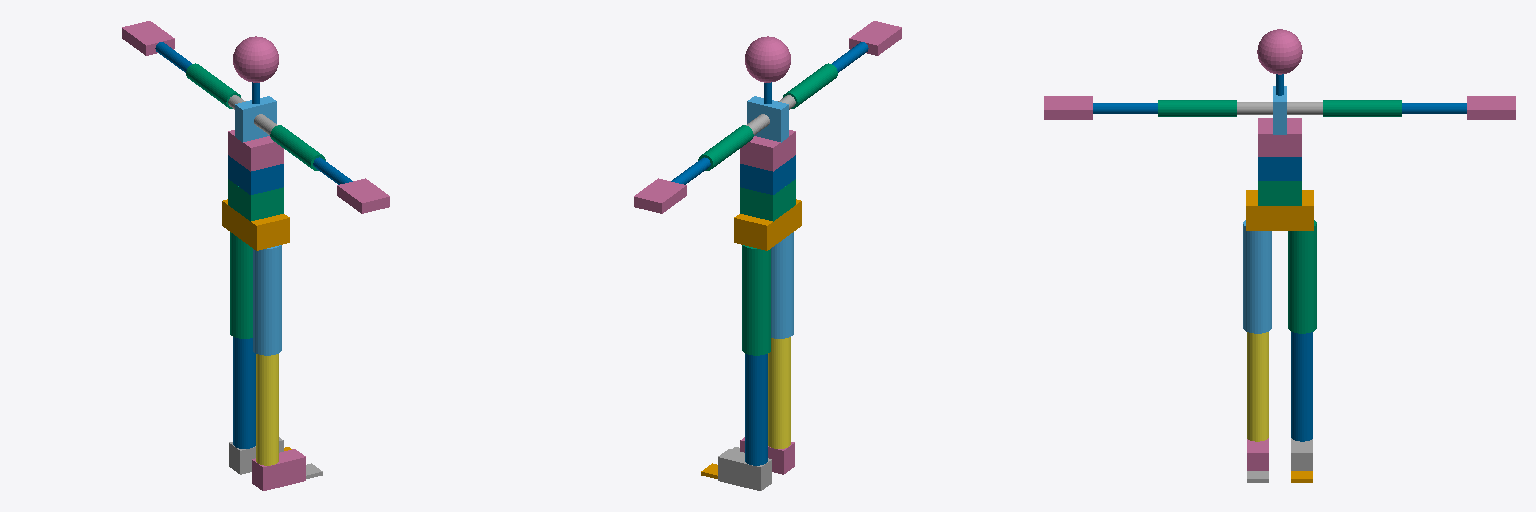
--- Facts derived from the render (not from the file) ---
The picture shows the robot from 3 angles, left to right: view 1: azimuth 30°, elevation 25°; view 2: azimuth 150°, elevation 25°; view 3: azimuth 270°, elevation 25°; orthographic projection.
Model meri48model with 49 links and 48 joints (48 revolute), rooted at Pelvis, posed every joint at zero.
Links seen in each view (by area): view 1: RightUpperLeg, RightLowerLeg, LeftLowerLeg, LeftUpperLeg, Pelvis, Head, RightFoot, T12, L5, L3, T8, RightHand (+4 smaller); view 2: LeftUpperLeg, LeftLowerLeg, RightLowerLeg, RightUpperLeg, Pelvis, Head, LeftFoot, T12, L5, L3, T8, LeftHand (+4 smaller); view 3: RightUpperLeg, LeftUpperLeg, RightLowerLeg, LeftLowerLeg, Pelvis, Head, T12, RightUpperArm, LeftUpperArm, RightHand, LeftHand, L5 (+6 smaller).
Link boxes in pixels (left/top/right/bottom): RightUpperLeg: left=253, top=245, right=281, bottom=355; RightLowerLeg: left=256, top=354, right=278, bottom=465; LeftLowerLeg: left=233, top=337, right=255, bottom=448; LeftUpperLeg: left=230, top=232, right=252, bottom=338; Pelvis: left=222, top=199, right=289, bottom=250; Head: left=233, top=36, right=278, bottom=82; RightFoot: left=252, top=449, right=305, bottom=490; T12: left=228, top=130, right=283, bottom=171; L5: left=228, top=179, right=283, bottom=221; L3: left=228, top=155, right=283, bottom=194; T8: left=235, top=96, right=276, bottom=142; RightHand: left=337, top=178, right=389, bottom=213; LeftUpperLeg: left=742, top=245, right=770, bottom=355; LeftLowerLeg: left=745, top=354, right=767, bottom=465; RightLowerLeg: left=768, top=337, right=790, bottom=448; RightUpperLeg: left=771, top=232, right=793, bottom=338; Pelvis: left=734, top=199, right=801, bottom=250; Head: left=745, top=36, right=790, bottom=82; LeftFoot: left=718, top=449, right=771, bottom=490; T12: left=740, top=130, right=795, bottom=171; L5: left=740, top=179, right=795, bottom=221; L3: left=740, top=155, right=795, bottom=194; T8: left=747, top=96, right=788, bottom=142; LeftHand: left=634, top=178, right=686, bottom=213; RightUpperLeg: left=1243, top=220, right=1271, bottom=333; LeftUpperLeg: left=1288, top=220, right=1316, bottom=333; RightLowerLeg: left=1247, top=332, right=1268, bottom=441; LeftLowerLeg: left=1291, top=332, right=1312, bottom=441; Pelvis: left=1246, top=190, right=1313, bottom=230; Head: left=1257, top=29, right=1302, bottom=74; T12: left=1258, top=118, right=1301, bottom=156; RightUpperArm: left=1158, top=100, right=1236, bottom=116; LeftUpperArm: left=1323, top=100, right=1401, bottom=116; RightHand: left=1044, top=96, right=1092, bottom=119; LeftHand: left=1467, top=96, right=1515, bottom=119; L5: left=1258, top=181, right=1301, bottom=205.
Bounding box of the posed robot: 0.2804 × 1.67 × 1.68 m (x, y, z).
Geometry: primitives only (box / cylinder / sphere), no mesh files.

URDF robot description (meri48model):
<robot name="meri48model">
<!--To open this model with Gazebo replace the null masses, inertias and dimensions of the 'fake links f1 and f2'-->
    <!--LINKS-->
	<!--Link base (1)-->
	<link name="Pelvis">
        <inertial>
            <mass value="4.9968"/>
			<!--COM origin wrt pHipOrigin-->
            <origin xyz="0           0    0.048589" rpy="0 0 0" />
            <inertia ixx="0.027779" iyy="0.01136" izz="0.031394" ixy="0" ixz="0" iyz="0"/>
        </inertial>

        <visual>
			<!--box origin wrt pHipOrigin-->
            <origin xyz="0           0    0.048589" rpy="0 0 0" />
            <geometry>
                <box size="0.13409     0.23961    0.096443"/>
            </geometry>
        </visual>

        <collision>
			<!--box origin wrt pHipOrigin-->
            <origin xyz="0           0    0.048589" rpy="0 0 0" />
            <geometry>
                <box size="0.13409     0.23961    0.096443"/>
            </geometry>
        </collision>

    </link>
    <!--Chain from (2) to (7)-->
	<link name="L5_f1">
        <inertial>
            <mass value="0.0001"/>
            <origin xyz="0 0 0" rpy="0 0 0" />
            <inertia ixx="0.1" iyy="0.1" izz="0.1" ixy="0" ixz="0" iyz="0"/>
        </inertial>
    </link>
	<link name="L5">
        <inertial>
            <mass value="6.3709"/>
			<!--COM origin wrt jL5S1-->
            <origin xyz="0           0    0.050322" rpy="0 0 0" />
            <inertia ixx="0.045355" iyy="0.034016" izz="0.067673" ixy="0" ixz="0" iyz="0"/>
        </inertial>

        <visual>
			<!--box origin origin wrt jL5S1-->
            <origin xyz="0           0    0.050322" rpy="0 0 0" />
            <geometry>
                <box size="0.13409     0.15843     0.10065"/>
            </geometry>
        </visual>

        <collision>
			<!--box origin origin wrt jL5S1-->
            <origin xyz="0           0    0.050322" rpy="0 0 0" />
            <geometry>
                <box size="0.13409     0.15843     0.10065"/>
            </geometry>
        </collision>
    </link>
	<link name="L3_f1">
        <inertial>
            <mass value="0.0001"/>
            <origin xyz="0 0 0" rpy="0 0 0" />
            <inertia ixx="0.1" iyy="0.1" izz="0.1" ixy="0" ixz="0" iyz="0"/>
        </inertial>
    </link>
	<link name="L3">
        <inertial>
            <mass value="6.3709"/>
			<!--COM origin wrt jL4L3-->
            <origin xyz="0           0    0.045465" rpy="0 0 0" />
            <inertia ixx="0.044367" iyy="0.033028" izz="0.067673" ixy="0" ixz="0" iyz="0"/>
        </inertial>

        <visual>
			<!--box origin origin wrt jL4L3-->
            <origin xyz="0           0    0.045465" rpy="0 0 0" />
            <geometry>
                <box size="0.13409     0.15843     0.09093"/>
            </geometry>
        </visual>

        <collision>
			<!--box origin origin wrt jL4L3-->
            <origin xyz="0           0    0.045465" rpy="0 0 0" />
            <geometry>
                <box size="0.13409     0.15843     0.09093"/>
            </geometry>
        </collision>
    </link>
	<link name="T12_f1">
        <inertial>
            <mass value="0.0001"/>
            <origin xyz="0 0 0" rpy="0 0 0" />
            <inertia ixx="0.1" iyy="0.1" izz="0.1" ixy="0" ixz="0" iyz="0"/>
        </inertial>
    </link>
	<link name="T12">
        <inertial>
            <mass value="6.3709"/>
			<!--COM origin wrt jL1T12-->
            <origin xyz="0           0    0.045465" rpy="0 0 0" />
            <inertia ixx="0.044367" iyy="0.033028" izz="0.067673" ixy="0" ixz="0" iyz="0"/>
        </inertial>

        <visual>
			<!--box origin origin wrt jL1T12-->
            <origin xyz="0           0    0.045465" rpy="0 0 0" />
            <geometry>
                <box size="0.13409     0.15843     0.09093"/>
            </geometry>
        </visual>

        <collision>
			<!--box origin origin wrt jL1T12-->
            <origin xyz="0           0    0.045465" rpy="0 0 0" />
            <geometry>
                <box size="0.13409     0.15843     0.09093"/>
            </geometry>
        </collision>
    </link>
	<link name="T8_f1">
        <inertial>
            <mass value="0.0001"/>
            <origin xyz="0 0 0" rpy="0 0 0" />
            <inertia ixx="0.1" iyy="0.1" izz="0.1" ixy="0" ixz="0" iyz="0"/>
        </inertial>
    </link>
	<link name="T8_f2">
        <inertial>
            <mass value="0.0001"/>
            <origin xyz="0 0 0" rpy="0 0 0" />
            <inertia ixx="0.1" iyy="0.1" izz="0.1" ixy="0" ixz="0" iyz="0"/>
        </inertial>
    </link>
	<link name="T8">
        <inertial>
            <mass value="2.4984"/>
			<!--COM origin wrt jT9T8-->
            <origin xyz="0           0    0.062885" rpy="0 0 0" />
            <inertia ixx="0.0038675" iyy="0.0072761" izz="0.0045569" ixy="0" ixz="0" iyz="0"/>
        </inertial>

        <visual>
			<!--box origin wrt jT9T8-->
            <origin xyz="0           0    0.062885" rpy="0 0 0" />
            <geometry>
                <box size="0.13831    0.052514     0.12577"/>
            </geometry>
        </visual>

        <collision>
			<!--box origin wrt jT9T8-->
            <origin xyz="0           0    0.062885" rpy="0 0 0" />
            <geometry>
                <box size="0.13831    0.052514     0.12577"/>
            </geometry>
        </collision>

    </link>
	<link name="Neck_f1">
        <inertial>
            <mass value="0.0001"/>
            <origin xyz="0 0 0" rpy="0 0 0" />
            <inertia ixx="0.1" iyy="0.1" izz="0.1" ixy="0" ixz="0" iyz="0"/>
        </inertial>
    </link>
	<link name="Neck_f2">
        <inertial>
            <mass value="0.0001"/>
            <origin xyz="0 0 0" rpy="0 0 0" />
            <inertia ixx="0.1" iyy="0.1" izz="0.1" ixy="0" ixz="0" iyz="0"/>
        </inertial>
    </link>
	<link name="Neck">
        <inertial>
            <mass value="0.74952"/>
			<!--COM origin wrt jT1C7-->
            <origin xyz="0           0    0.042348" rpy="0 0 0" />
            <inertia ixx="0.00058952" iyy="0.00058952" izz="0.00028294" ixy="0" ixz="0" iyz="0"/>
        </inertial>

        <visual>
			<!--box origin wrt jT1C7-->
            <origin xyz="0           0    0.042348" rpy="0 0 0" />
            <geometry>
		<cylinder length="0.084696" radius="0.013739"/>
            </geometry>
        </visual>

        <collision>
			<!--box origin wrt jT1C7-->
            <origin xyz="0           0    0.042348" rpy="0 0 0" />
            <geometry>
                <cylinder length="0.084696" radius="0.013739"/>
            </geometry>
        </collision>
    </link>
	<link name="Head_f1">
        <inertial>
            <mass value="0.0001"/>
            <origin xyz="0 0 0" rpy="0 0 0" />
            <inertia ixx="0.1" iyy="0.1" izz="0.1" ixy="0" ixz="0" iyz="0"/>
        </inertial>
    </link>
	<link name="Head">
        <inertial>
            <mass value="2.2486"/>
			<!--COM origin wrt jC1Head-->
            <origin xyz="0           0    0.080693" rpy="0 0 0" />
            <inertia ixx="0.0058564" iyy="0.0058564" izz="0.0058564" ixy="0" ixz="0" iyz="0"/>
        </inertial>

        <visual>
			<!--boc origin wrt jC1Head-->
            <origin xyz="0           0    0.080693" rpy="0 0 0" />
            <geometry>
                <sphere radius="0.080693"/>
            </geometry>
        </visual>

        <collision>
			<!--box origin wrt jC1Head-->
            <origin xyz="0           0    0.080693" rpy="0 0 0" />
            <geometry>
                <sphere radius="0.080693"/>
            </geometry>
        </collision>

    </link>
	<!--Chain from (8) to (11)-->
	<link name="RightShoulder">
        <inertial>
            <mass value="1.9363"/>
			<!--COM origin wrt jRightC7Shoulder-->
            <origin xyz="0   -0.063159           0" rpy="0 0 0" />
            <inertia ixx="0.0028279" iyy="0.00050654" izz="0.0028279" ixy="0" ixz="0" iyz="0"/>
        </inertial>

        <visual>
			<!--box origin wrt jRightC7Shoulder. RPY rotated of pi/2.-->
            <origin xyz="0   -0.063159           0" rpy="1.5708 0 0" />
            <geometry>
                <cylinder length="0.12632" radius="0.022874"/>
            </geometry>
        </visual>

        <collision>
			<!--box origin wrt jRightC7Shoulder. RPY rotated of pi/2.-->
            <origin xyz="0   -0.063159           0" rpy="1.5708 0 0" />
            <geometry>
                <cylinder length="0.12632" radius="0.022874"/>
            </geometry>
        </collision>

    </link>
	<link name="RightUpperArm_f1">
        <inertial>
            <mass value="0.0001"/>
            <origin xyz="0 0 0" rpy="0 0 0" />
            <inertia ixx="0.1" iyy="0.1" izz="0.1" ixy="0" ixz="0" iyz="0"/>
        </inertial>
    </link>
	<link name="RightUpperArm_f2">
        <inertial>
            <mass value="0.0001"/>
            <origin xyz="0 0 0" rpy="0 0 0" />
            <inertia ixx="0.1" iyy="0.1" izz="0.1" ixy="0" ixz="0" iyz="0"/>
        </inertial>
    </link>
    <link name="RightUpperArm">
        <inertial>
            <mass value="1.8738"/>
			<!--COM origin wrt jRightShoulder-->
            <origin xyz="0    -0.14042           0" rpy="0 0 0" />
            <inertia ixx="0.012751" iyy="0.00087175" izz="0.012751" ixy="0" ixz="0" iyz="0"/>
        </inertial>

        <visual>
			<!--box origin wrt jRightShoulder. RPY rotated of pi/2.-->
            <origin xyz="0    -0.14042           0" rpy="1.5708 0 0" />
            <geometry>
                <cylinder length="0.28083" radius="0.030503"/>
            </geometry>
        </visual>

        <collision>
			<!--box origin wrt jRightShoulder. RPY rotated of pi/2.-->
            <origin xyz="0    -0.14042           0" rpy="1.5708 0 0" />
            <geometry>
                <cylinder length="0.28083" radius="0.030503"/>
            </geometry>
        </collision>

    </link>
	<link name="RightForeArm_f1">
        <inertial>
            <mass value="0.0001"/>
            <origin xyz="0 0 0" rpy="0 0 0" />
            <inertia ixx="0.1" iyy="0.1" izz="0.1" ixy="0" ixz="0" iyz="0"/>
        </inertial>
    </link>
	<link name="RightForeArm">
        <inertial>
            <mass value="1.2492"/>
			<!--COM origin wrt jRightElbow-->
            <origin xyz="0    -0.11509           0" rpy="0 0 0" />
            <inertia ixx="0.0056447" iyy="0.0002583" izz="0.0056447" ixy="0" ixz="0" iyz="0"/>
        </inertial>

        <visual>
			<!--box origin wrt jRightElbow. RPY rotated of pi/2.-->
            <origin xyz="0    -0.11509           0" rpy="1.5708 0 0" />
            <geometry>
                <cylinder length="0.23018" radius="0.020336"/>
            </geometry>
        </visual>

        <collision>
			<!--box origin wrt jRightElbow. RPY rotated of pi/2.-->
            <origin xyz="0    -0.11509           0" rpy="1.5708 0 0" />
            <geometry>
                <cylinder length="0.23018" radius="0.020336"/>
            </geometry>
        </collision>

    </link>
	<link name="RightHand_f1">
        <inertial>
            <mass value="0.0001"/>
            <origin xyz="0 0 0" rpy="0 0 0" />
            <inertia ixx="0.1" iyy="0.1" izz="0.1" ixy="0" ixz="0" iyz="0"/>
        </inertial>
    </link>
	<link name="RightHand">
        <inertial>
            <mass value="0.37476"/>
			<!--COM origin wrt jRightWrist-->
            <origin xyz="0   -0.086033           0" rpy="0 0 0" />
            <inertia ixx="0.00097629" iyy="0.00046261" izz="0.0013356" ixy="0" ixz="0" iyz="0"/>
        </inertial>

        <visual>
			<!--box origin wrt jRightWrist-->
            <origin xyz="0   -0.086033           0" rpy="0 0 0" />
            <geometry>
                <box size="0.11471     0.17207    0.040671"/>
            </geometry>
        </visual>

        <collision>
			<!--box origin wrt jRightWrist-->
            <origin xyz="0   -0.086033           0" rpy="0 0 0" />
            <geometry>
                <box size="0.11471     0.17207    0.040671"/>
            </geometry>
        </collision>

    </link>
	<!--Chain from (12) to (15)-->
	<link name="LeftShoulder">
        <inertial>
            <mass value="1.9363"/>
			<!--COM origin wrt jLeftC7Shoulder-->
            <origin xyz="0    0.063159           0" rpy="0 0 0" />
            <inertia ixx="0.0028279" iyy="0.00050654" izz="0.0028279" ixy="0" ixz="0" iyz="0"/>
        </inertial>

        <visual>
			<!--box origin wrt jLeftC7Shoulder. RPY rotated of pi/2.-->
            <origin xyz="0    0.063159           0" rpy="1.5708 0 0" />
            <geometry>
                <cylinder length="0.12632" radius="0.022874"/>
            </geometry>
        </visual>

        <collision>
			<!--box origin wrt jLeftC7Shoulder. RPY rotated of pi/2.-->
            <origin xyz="0    0.063159           0" rpy="1.5708 0 0" />
            <geometry>
                <cylinder length="0.12632" radius="0.022874"/>
            </geometry>
        </collision>

    </link>
	<link name="LeftUpperArm_f1">
        <inertial>
            <mass value="0.0001"/>
            <origin xyz="0 0 0" rpy="0 0 0" />
            <inertia ixx="0.1" iyy="0.1" izz="0.1" ixy="0" ixz="0" iyz="0"/>
        </inertial>
    </link>
	<link name="LeftUpperArm_f2">
        <inertial>
            <mass value="0.0001"/>
            <origin xyz="0 0 0" rpy="0 0 0" />
            <inertia ixx="0.1" iyy="0.1" izz="0.1" ixy="0" ixz="0" iyz="0"/>
        </inertial>
    </link>
	<link name="LeftUpperArm">
        <inertial>
            <mass value="1.8738"/>
			<!--COM origin wrt jLeftShoulder-->
            <origin xyz="0     0.14042           0" rpy="0 0 0" />
            <inertia ixx="0.012751" iyy="0.00087175" izz="0.012751" ixy="0" ixz="0" iyz="0"/>
        </inertial>

        <visual>
			<!--box origin wrt jLeftShoulder. RPY rotated of pi/2.-->
            <origin xyz="0     0.14042           0" rpy="1.5708 0 0" />
            <geometry>
                <cylinder length="0.28083" radius="0.030503"/>
            </geometry>
        </visual>

        <collision>
			<!--box origin wrt jLeftShoulder. RPY rotated of pi/2.-->
            <origin xyz="0     0.14042           0" rpy="1.5708 0 0" />
            <geometry>
                <cylinder length="0.28083" radius="0.030503"/>
            </geometry>
        </collision>

    </link>
	<link name="LeftForeArm_f1">
        <inertial>
            <mass value="0.0001"/>
            <origin xyz="0 0 0" rpy="0 0 0" />
            <inertia ixx="0.1" iyy="0.1" izz="0.1" ixy="0" ixz="0" iyz="0"/>
        </inertial>
    </link>
	<link name="LeftForeArm">
        <inertial>
            <mass value="1.2492"/>
			<!--COM origin wrt jLeftElbow-->
            <origin xyz="0     0.11509           0" rpy="0 0 0" />
            <inertia ixx="0.0056447" iyy="0.0002583" izz="0.0056447" ixy="0" ixz="0" iyz="0"/>
        </inertial>

        <visual>
			<!--box origin wrt jLeftElbow. RPY rotated of pi/2.-->
            <origin xyz="0     0.11509           0" rpy="1.5708 0 0" />
            <geometry>
                <cylinder length="0.23018" radius="0.020336"/>
            </geometry>
        </visual>

        <collision>
			<!--box origin wrt jLeftElbow. RPY rotated of pi/2.-->
            <origin xyz="0     0.11509           0" rpy="1.5708 0 0" />
            <geometry>
                <cylinder length="0.23018" radius="0.020336"/>
            </geometry>
        </collision>

    </link>
	<link name="LeftHand_f1">
        <inertial>
            <mass value="0.0001"/>
            <origin xyz="0 0 0" rpy="0 0 0" />
            <inertia ixx="0.1" iyy="0.1" izz="0.1" ixy="0" ixz="0" iyz="0"/>
        </inertial>
    </link>
	<link name="LeftHand">
        <inertial>
            <mass value="0.37476"/>
			<!--COM origin wrt jLeftWrist-->
            <origin xyz="0    0.086033           0" rpy="0 0 0" />
            <inertia ixx="0.00097629" iyy="0.00046261" izz="0.0013356" ixy="0" ixz="0" iyz="0"/>
        </inertial>

        <visual>
			<!--COM origin wrt jLeftWrist-->
            <origin xyz="0    0.086033           0" rpy="0 0 0" />
            <geometry>
                <box size="0.11471     0.17207    0.040671"/>
            </geometry>
        </visual>

        <collision>
			<!--COM origin wrt jLeftWrist-->
            <origin xyz="0    0.086033           0" rpy="0 0 0" />
            <geometry>
                <box size="0.11471     0.17207    0.040671"/>
            </geometry>
        </collision>

    </link>
	<!--Chain from (16) to (19)-->
	<link name="RightUpperLeg_f1">
        <inertial>
            <mass value="0.0001"/>
            <origin xyz="0 0 0" rpy="0 0 0" />
            <inertia ixx="0.1" iyy="0.1" izz="0.1" ixy="0" ixz="0" iyz="0"/>
        </inertial>
    </link>
	<link name="RightUpperLeg_f2">
        <inertial>
            <mass value="0.0001"/>
            <origin xyz="0 0 0" rpy="0 0 0" />
            <inertia ixx="0.1" iyy="0.1" izz="0.1" ixy="0" ixz="0" iyz="0"/>
        </inertial>
    </link>
    <link name="RightUpperLeg">
        <inertial>
            <mass value="7.8075"/>
			<!--COM origin wrt jRightHip-->
            <origin xyz="0           0    -0.20463" rpy="0 0 0" />
            <inertia ixx="0.11417" iyy="0.11417" izz="0.010392" ixy="0" ixz="0" iyz="0"/>
        </inertial>

        <visual>
			<!--box origin wrt jRightHip-->
            <origin xyz="0           0    -0.20463" rpy="0 0 0" />
            <geometry>
                <cylinder length="0.40926" radius="0.051595"/>
            </geometry>
        </visual>

        <collision>
			<!--box origin wrt jRightHip-->
            <origin xyz="0           0    -0.20463" rpy="0 0 0" />
            <geometry>
                <cylinder length="0.40926" radius="0.051595"/>
            </geometry>
        </collision>

    </link>
	<link name="RightLowerLeg_f1">
        <inertial>
            <mass value="0.0001"/>
            <origin xyz="0 0 0" rpy="0 0 0" />
            <inertia ixx="0.1" iyy="0.1" izz="0.1" ixy="0" ixz="0" iyz="0"/>
        </inertial>
    </link>
    <link name="RightLowerLeg">
        <inertial>
            <mass value="2.2798"/>
			<!--COM origin wrt jRightKnee-->
            <origin xyz="0           0    -0.21406" rpy="0 0 0" />
            <inertia ixx="0.0357" iyy="0.0357" izz="0.00176" ixy="0" ixz="0" iyz="0"/>
        </inertial>

        <visual>
			<!--box origin wrt jRightKnee-->
            <origin xyz="0           0    -0.21406" rpy="0 0 0" />
            <geometry>
                <cylinder length="0.42811" radius="0.039293"/>
            </geometry>
        </visual>

        <collision>
			<!--box origin wrt jRightKnee-->
            <origin xyz="0           0    -0.21406" rpy="0 0 0" />
            <geometry>
                <cylinder length="0.42811" radius="0.039293"/>
            </geometry>
        </collision>

    </link>
	<link name="RightFoot_f1">
        <inertial>
            <mass value="0.0001"/>
            <origin xyz="0 0 0" rpy="0 0 0" />
            <inertia ixx="0.1" iyy="0.1" izz="0.1" ixy="0" ixz="0" iyz="0"/>
        </inertial>
    </link>
	<link name="RightFoot_f2">
        <inertial>
            <mass value="0.0001"/>
            <origin xyz="0 0 0" rpy="0 0 0" />
            <inertia ixx="0.1" iyy="0.1" izz="0.1" ixy="0" ixz="0" iyz="0"/>
        </inertial>
    </link>
    <link name="RightFoot">
        <inertial>
            <mass value="0.81198"/>
			<!--COM origin wrt jRightAnkle-->
            <origin xyz="0.047341           0   -0.045923" rpy="0 0 0" />
            <inertia ixx="0.00098871" iyy="0.0026164" izz="0.0024635" ixy="0" ixz="0" iyz="0"/>
        </inertial>

        <visual>
			<!--box origin wrt jRightAnkle-->
	    	<origin xyz="0.047341           0   -0.045923" rpy="0 0 0" />
            <geometry>
                <box size="0.17387    0.078587    0.091847"/>
            </geometry>
        </visual>

        <collision>
			<!--box origin wrt jRightAnkle-->
		    <origin xyz="0.047341           0   -0.045923" rpy="0 0 0" />
	            <geometry>
	                <box size="0.17387    0.078587    0.091847"/>
	            </geometry>
        </collision>

    </link>
    <link name="RightToe">
        <inertial>
            <mass value="0.09369"/>
			<!--COM origin wrt jRightBallFoot-->
            <origin xyz="0.033062           0           0" rpy="0 0 0" />
            <inertia ixx="4.9903e-05" iyy="3.5821e-05" izz="8.2355e-05" ixy="0" ixz="0" iyz="0"/>
        </inertial>

        <visual>
			<!--box origin wrt jRightBallFoot-->
            <origin xyz="0.033062           0           0" rpy="0 0 0" />
            <geometry>
                <box size="0.066123    0.078587    0.014689"/>
            </geometry>
        </visual>

        <collision>
			<!--box origin wrt jRightBallFoot-->
            <origin xyz="0.033062           0           0" rpy="0 0 0" />
            <geometry>
                <box size="0.066123    0.078587    0.014689"/>
            </geometry>
        </collision>
    </link>
	<!--Chain from (20) to (23)-->
	<link name="LeftUpperLeg_f1">
        <inertial>
            <mass value="0.0001"/>
            <origin xyz="0 0 0" rpy="0 0 0" />
            <inertia ixx="0.1" iyy="0.1" izz="0.1" ixy="0" ixz="0" iyz="0"/>
        </inertial>
    </link>
	<link name="LeftUpperLeg_f2">
        <inertial>
            <mass value="0.0001"/>
            <origin xyz="0 0 0" rpy="0 0 0" />
            <inertia ixx="0.1" iyy="0.1" izz="0.1" ixy="0" ixz="0" iyz="0"/>
        </inertial>
    </link>
    <link name="LeftUpperLeg">
        <inertial>
            <mass value="7.8075"/>
			<!--COM origin wrt jLeftHip-->
            <origin xyz="0           0    -0.20463" rpy="0 0 0" />
            <inertia ixx="0.11417" iyy="0.11417" izz="0.010392" ixy="0" ixz="0" iyz="0"/>
        </inertial>

        <visual>
			<!--box origin wrt jLeftHip-->
            <origin xyz="0           0    -0.20463" rpy="0 0 0" />
            <geometry>
                <cylinder length="0.40926" radius="-0.051595"/>
            </geometry>
        </visual>

        <collision>
			<!--box origin wrt jLeftHip-->
            <origin xyz="0           0    -0.20463" rpy="0 0 0" />
            <geometry>
                <cylinder length="0.40926" radius="-0.051595"/>
            </geometry>
        </collision>

    </link>
	<link name="LeftLowerLeg_f1">
        <inertial>
            <mass value="0.0001"/>
            <origin xyz="0 0 0" rpy="0 0 0" />
            <inertia ixx="0.1" iyy="0.1" izz="0.1" ixy="0" ixz="0" iyz="0"/>
        </inertial>
    </link>
	<link name="LeftLowerLeg">
        <inertial>
            <mass value="2.2798"/>
			<!--COM origin wrt jLeftKnee-->
            <origin xyz="0           0    -0.21406" rpy="0 0 0" />
            <inertia ixx="0.0357" iyy="0.0357" izz="0.00176" ixy="0" ixz="0" iyz="0"/>
        </inertial>

        <visual>
			<!--box origin wrt jLeftKnee-->
            <origin xyz="0           0    -0.21406" rpy="0 0 0" />
            <geometry>
		<cylinder length="0.42811" radius="0.039293"/>
            </geometry>
        </visual>

        <collision>
			<!--box origin wrt jLeftKnee-->
            <origin xyz="0           0    -0.21406" rpy="0 0 0" />
            <geometry>
		<cylinder length="0.42811" radius="0.039293"/>
            </geometry>
        </collision>

    </link>
	<link name="LeftFoot_f1">
        <inertial>
            <mass value="0.0001"/>
            <origin xyz="0 0 0" rpy="0 0 0" />
            <inertia ixx="0.1" iyy="0.1" izz="0.1" ixy="0" ixz="0" iyz="0"/>
        </inertial>
    </link>
	<link name="LeftFoot_f2">
        <inertial>
            <mass value="0.0001"/>
            <origin xyz="0 0 0" rpy="0 0 0" />
            <inertia ixx="0.1" iyy="0.1" izz="0.1" ixy="0" ixz="0" iyz="0"/>
        </inertial>
    </link>
    <link name="LeftFoot">
        <inertial>
            <mass value="0.81198"/>
			<!--COM origin wrt jLeftAnkle-->
            <origin xyz="0.047341           0   -0.045923" rpy="0 0 0" />
            <inertia ixx="0.00098871" iyy="0.0026164" izz="0.0024635" ixy="0" ixz="0" iyz="0"/>
        </inertial>

        <visual>
			<!--box origin wrt jLeftAnkle-->
	   	 	<origin xyz="0.047341           0   -0.045923" rpy="0 0 0" />
            <geometry>
                <box size="0.17387    0.078587    0.091847"/>
            </geometry>
        </visual>

        <collision>
			<!--box origin wrt jLeftAnkle-->
		    <origin xyz="0.047341           0   -0.045923" rpy="0 0 0" />
	            <geometry>
	                <box size="0.17387    0.078587    0.091847"/>
	            </geometry>
        </collision>

    </link>
	<link name="LeftToe">
        <inertial>
            <mass value="0.09369"/>
			<!--COM origin wrt jLeftBallFoot-->
            <origin xyz="0.033062           0           0" rpy="0 0 0" />
            <inertia ixx="4.9903e-05" iyy="3.5821e-05" izz="8.2355e-05" ixy="0" ixz="0" iyz="0"/>
        </inertial>

        <visual>
			<!--box origin wrt jLeftBallFoot-->
            <origin xyz="0.033062           0           0" rpy="0 0 0" />
            <geometry>
                <box size="0.066123    0.078587    0.014689"/>
            </geometry>
        </visual>

        <collision>
			<!--box origin wrt jLeftBallFoot-->
            <origin xyz="0.033062           0           0" rpy="0 0 0" />
            <geometry>
                <box size="0.066123    0.078587    0.014689"/>
            </geometry>
        </collision>
    </link>


	<!--JOINTS-->
	<!--Chain from (2) to (7)-->
	<joint name="jL5S1_rotx" type="revolute">
        <origin xyz="-7.5e-05           0     0.09681" rpy="0 0 0"/>
        <parent link="Pelvis"/>
        <child link="L5_f1"/>
        <dynamics damping="0.1" friction="0.0"/>
        <limit effort="30" velocity="1.0" lower="-0.610865" upper="0.610865" />
        <axis xyz="1 0 0" />
    </joint>
	<joint name="jL5S1_roty" type="revolute">
        <origin xyz="0 0 0" rpy="0 0 0"/>
        <parent link="L5_f1"/>
        <child link="L5"/>
        <dynamics damping="0.1" friction="0.0"/>
        <limit effort="30" velocity="1.0" lower="-0.523599" upper="1.309" />
        <axis xyz="0 1 0" />
    </joint>
	<joint name="jL4L3_rotx" type="revolute">
        <origin xyz="0.000136           0     0.10065" rpy="0 0 0"/>
        <parent link="L5"/>
        <child link="L3_f1"/>
        <dynamics damping="0.1" friction="0.0"/>
        <limit effort="30" velocity="1.0" lower="-0.610865" upper="0.610865" />
        <axis xyz="1 0 0" />
    </joint>
	<joint name="jL4L3_roty" type="revolute">
        <origin xyz="0 0 0" rpy="0 0 0"/>
        <parent link="L3_f1"/>
        <child link="L3"/>
        <dynamics damping="0.1" friction="0.0"/>
        <limit effort="30" velocity="1.0" lower="-0.523599" upper="1.309" />
        <axis xyz="0 1 0" />
    </joint>
	<joint name="jL1T12_rotx" type="revolute">
        <origin xyz="0           0     0.09093" rpy="0 0 0"/>
        <parent link="L3"/>
        <child link="T12_f1"/>
        <dynamics damping="0.1" friction="0.0"/>
        <limit effort="30" velocity="1.0" lower="-0.610865" upper="0.610865" />
        <axis xyz="1 0 0" />
    </joint>
	<joint name="jL1T12_roty" type="revolute">
        <origin xyz="0 0 0" rpy="0 0 0"/>
        <parent link="T12_f1"/>
        <child link="T12"/>
        <dynamics damping="0.1" friction="0.0"/>
        <limit effort="30" velocity="1.0" lower="-0.523599" upper="1.309" />
        <axis xyz="0 1 0" />
    </joint>
	<joint name="jT9T8_rotx" type="revolute">
        <origin xyz="0           0     0.09093" rpy="0 0 0"/>
        <parent link="T12"/>
        <child link="T8_f1"/>
        <dynamics damping="0.1" friction="0.0"/>
        <limit effort="30" velocity="1.0" lower="-0.349066" upper="0.349066" />
        <axis xyz="1 0 0" />
    </joint>
	<joint name="jT9T8_roty" type="revolute">
        <origin xyz="0 0 0" rpy="0 0 0"/>
        <parent link="T8_f1"/>
        <child link="T8_f2"/>
        <dynamics damping="0.1" friction="0.0"/>
        <limit effort="30" velocity="1.0" lower="-0.261799" upper="0.698132" />
        <axis xyz="0 1 0" />
    </joint>
    <joint name="jT9T8_rotz" type="revolute">
        <origin xyz="0 0 0" rpy="0 0 0"/>
        <parent link="T8_f2"/>
        <child link="T8"/>
        <dynamics damping="0.1" friction="0.0"/>
        <limit effort="30" velocity="1.0" lower="-0.610865" upper="0.610865" />
        <axis xyz="0 0 1" />
    </joint>
	<joint name="jT1C7_rotx" type="revolute">
        <origin xyz="0           0     0.12577" rpy="0 0 0"/>
        <parent link="T8"/>
        <child link="Neck_f1"/>
        <dynamics damping="0.1" friction="0.0"/>
        <limit effort="30" velocity="1.0" lower="-0.610865" upper="0.610865" />
        <axis xyz="1 0 0" />
    </joint>
	<joint name="jT1C7_roty" type="revolute">
        <origin xyz="0 0 0" rpy="0 0 0"/>
        <parent link="Neck_f1"/>
        <child link="Neck_f2"/>
        <dynamics damping="0.1" friction="0.0"/>
        <limit effort="30" velocity="1.0" lower="-0.959931" upper="1.5708" />
        <axis xyz="0 1 0" />
    </joint>
    <joint name="jT1C7_rotz" type="revolute">
        <origin xyz="0 0 0" rpy="0 0 0"/>
        <parent link="Neck_f2"/>
        <child link="Neck"/>
        <dynamics damping="0.1" friction="0.0"/>
        <limit effort="30" velocity="1.0" lower="-1.22173" upper="1.22173" />
        <axis xyz="0 0 1" />
    </joint>
	<joint name="jC1Head_rotx" type="revolute">
        <origin xyz="0.000323           0    0.084696" rpy="0 0 0"/>
        <parent link="Neck"/>
        <child link="Head_f1"/>
        <dynamics damping="0.1" friction="0.0"/>
        <limit effort="30" velocity="1.0" lower="-0.610865" upper="0.610865" />
        <axis xyz="1 0 0" />
    </joint>
	<joint name="jC1Head_roty" type="revolute">
        <origin xyz="0 0 0" rpy="0 0 0"/>
        <parent link="Head_f1"/>
        <child link="Head"/>
        <dynamics damping="0.1" friction="0.0"/>
        <limit effort="30" velocity="1.0" lower="-0.436332" upper="0.174533" />
        <axis xyz="0 1 0" />
    </joint>
	<!--Chain from (8) to (11)-->
	<joint name="jRightC7Shoulder_rotx" type="revolute">
        <origin xyz="0   -0.026257    0.070261" rpy="0 0 0"/>
        <parent link="T8"/>
        <child link="RightShoulder"/>
        <dynamics damping="0.1" friction="0.0"/>
        <limit effort="30" velocity="1.0" lower="-0.0872665" upper="0.785398" />
        <axis xyz="1 0 0" />
    </joint>
	<joint name="jRightShoulder_rotx" type="revolute">
        <origin xyz="0    -0.12632           0" rpy="0 0 0"/>
        <parent link="RightShoulder"/>
        <child link="RightUpperArm_f1"/>
        <dynamics damping="0.1" friction="0.0"/>
        <limit effort="30" velocity="1.0" lower="-2.35619" upper="1.5708" />
        <axis xyz="1 0 0" />
    </joint>
	<joint name="jRightShoulder_roty" type="revolute">
        <origin xyz="0 0 0" rpy="0 0 0"/>
        <parent link="RightUpperArm_f1"/>
        <child link="RightUpperArm_f2"/>
        <dynamics damping="0.1" friction="0.0"/>
        <limit effort="30" velocity="1.0" lower="-1.5708" upper="1.5708" />
        <axis xyz="0 1 0" />
    </joint>
    <joint name="jRightShoulder_rotz" type="revolute">
        <origin xyz="0 0 0" rpy="0 0 0"/>
        <parent link="RightUpperArm_f2"/>
        <child link="RightUpperArm"/>
        <dynamics damping="0.1" friction="0.0"/>
        <limit effort="30" velocity="1.0" lower="-0.785398" upper="3.14159" />
        <axis xyz="0 0 1" />
    </joint>
	<joint name="jRightElbow_roty" type="revolute">
        <origin xyz="0    -0.28083           0" rpy="0 0 0"/>
        <parent link="RightUpperArm"/>
        <child link="RightForeArm_f1"/>
        <dynamics damping="0.1" friction="0.0"/>
        <limit effort="30" velocity="1.0" lower="-1.5708" upper="1.48353" />
        <axis xyz="0 1 0" />
    </joint>
	<joint name="jRightElbow_rotz" type="revolute">
        <origin xyz="0 0 0" rpy="0 0 0"/>
        <parent link="RightForeArm_f1"/>
        <child link="RightForeArm"/>
        <dynamics damping="0.1" friction="0.0"/>
        <limit effort="30" velocity="1.0" lower="0" upper="2.53073" />
        <axis xyz="0 0 1" />
    </joint>
	<joint name="jRightWrist_rotx" type="revolute">
        <origin xyz="3e-05    -0.23018           0" rpy="0 0 0"/>
        <parent link="RightForeArm"/>
        <child link="RightHand_f1"/>
        <dynamics damping="0.1" friction="0.0"/>
        <limit effort="30" velocity="1.0" lower="-0.872665" upper="1.0472" />
        <axis xyz="1 0 0" />
    </joint>
	<joint name="jRightWrist_rotz" type="revolute">
        <origin xyz="0 0 0" rpy="0 0 0"/>
        <parent link="RightHand_f1"/>
        <child link="RightHand"/>
        <dynamics damping="0.1" friction="0.0"/>
        <limit effort="30" velocity="1.0" lower="-0.523599" upper="0.349066" />
        <axis xyz="0 0 1" />
    </joint>
	<!--Chain from (12) to (15)-->
	<joint name="jLeftC7Shoulder_rotx" type="revolute">
        <origin xyz="0    0.026257    0.070261" rpy="0 0 0"/>
        <parent link="T8"/>
        <child link="LeftShoulder"/>
        <dynamics damping="0.1" friction="0.0"/>
        <limit effort="30" velocity="1.0" lower="-0.0872665" upper="0.785398" />
        <axis xyz="1 0 0" />
    </joint>
	<joint name="jLeftShoulder_rotx" type="revolute">
        <origin xyz="0     0.12632           0" rpy="0 0 0"/>
        <parent link="LeftShoulder"/>
        <child link="LeftUpperArm_f1"/>
        <dynamics damping="0.1" friction="0.0"/>
        <limit effort="30" velocity="1.0" lower="-1.5708" upper="2.35619" />
        <axis xyz="1 0 0" />
    </joint>
	<joint name="jLeftShoulder_roty" type="revolute">
        <origin xyz="0 0 0" rpy="0 0 0"/>
        <parent link="LeftUpperArm_f1"/>
        <child link="LeftUpperArm_f2"/>
        <dynamics damping="0.1" friction="0.0"/>
        <limit effort="30" velocity="1.0" lower="-1.5708" upper="1.5708" />
        <axis xyz="0 1 0" />
    </joint>
    <joint name="jLeftShoulder_rotz" type="revolute">
        <origin xyz="0 0 0" rpy="0 0 0"/>
        <parent link="LeftUpperArm_f2"/>
        <child link="LeftUpperArm"/>
        <dynamics damping="0.1" friction="0.0"/>
        <limit effort="30" velocity="1.0" lower="-3.14159" upper="0.785398" />
        <axis xyz="0 0 1" />
    </joint>
    <joint name="jLeftElbow_roty" type="revolute">
        <origin xyz="0     0.28083           0" rpy="0 0 0"/>
        <parent link="LeftUpperArm"/>
        <child link="LeftForeArm_f1"/>
        <dynamics damping="0.1" friction="0.0"/>
        <limit effort="30" velocity="1.0" lower="-1.5708" upper="1.48353" />
        <axis xyz="0 1 0" />
    </joint>
    <joint name="jLeftElbow_rotz" type="revolute">
        <origin xyz="0 0 0" rpy="0 0 0"/>
        <parent link="LeftForeArm_f1"/>
        <child link="LeftForeArm"/>
        <dynamics damping="0.1" friction="0.0"/>
        <limit effort="30" velocity="1.0" lower="-2.53073" upper="0" />
        <axis xyz="0 0 1" />
    </joint>
	<joint name="jLeftWrist_rotx" type="revolute">
        <origin xyz="3e-05     0.23018           0" rpy="0 0 0"/>
        <parent link="LeftForeArm"/>
        <child link="LeftHand_f1"/>
        <dynamics damping="0.1" friction="0.0"/>
        <limit effort="30" velocity="1.0" lower="-1.0472" upper="0.872665" />
        <axis xyz="1 0 0" />
    </joint>
	<joint name="jLeftWrist_rotz" type="revolute">
        <origin xyz="0 0 0" rpy="0 0 0"/>
        <parent link="LeftHand_f1"/>
        <child link="LeftHand"/>
        <dynamics damping="0.1" friction="0.0"/>
        <limit effort="30" velocity="1.0" lower="-0.349066" upper="0.523599" />
        <axis xyz="0 0 1" />
    </joint>
	<!--Chain from (16) to (19)-->
	<joint name="jRightHip_rotx" type="revolute">
        <origin xyz="3.7e-05   -0.079215    0.000367" rpy="0 0 0"/>
        <parent link="Pelvis"/>
        <child link="RightUpperLeg_f1"/>
        <dynamics damping="0.1" friction="0.0"/>
        <limit effort="30" velocity="1.0" lower="-0.523599" upper="0.785398" />
        <axis xyz="1 0 0" />
    </joint>
	<joint name="jRightHip_roty" type="revolute">
        <origin xyz="0 0 0" rpy="0 0 0"/>
        <parent link="RightUpperLeg_f1"/>
        <child link="RightUpperLeg_f2"/>
        <dynamics damping="0.1" friction="0.0"/>
        <limit effort="30" velocity="1.0" lower="-0.261799" upper="2.0944" />
        <axis xyz="0 1 0" />
    </joint>
    <joint name="jRightHip_rotz" type="revolute">
        <origin xyz="0 0 0" rpy="0 0 0"/>
        <parent link="RightUpperLeg_f2"/>
        <child link="RightUpperLeg"/>
        <dynamics damping="0.1" friction="0.0"/>
        <limit effort="30" velocity="1.0" lower="-0.785398" upper="0.785398" />
        <axis xyz="0 0 1" />
    </joint>
	<joint name="jRightKnee_roty" type="revolute">
        <origin xyz="-2e-06           0    -0.40926" rpy="0 0 0"/>
        <parent link="RightUpperLeg"/>
        <child link="RightLowerLeg_f1"/>
        <dynamics damping="0.1" friction="0.0"/>
        <limit effort="30" velocity="1.0" lower="0" upper="2.35619" />
        <axis xyz="0 1 0" />
    </joint>
	<joint name="jRightKnee_rotz" type="revolute">
        <origin xyz="0 0 0" rpy="0 0 0"/>
        <parent link="RightLowerLeg_f1"/>
        <child link="RightLowerLeg"/>
        <dynamics damping="0.1" friction="0.0"/>
        <limit effort="30" velocity="1.0" lower="-0.698132" upper="0.523599" />
        <axis xyz="0 0 1" />
    </joint>
	<joint name="jRightAnkle_rotx" type="revolute">
        <origin xyz="-0.000373           0    -0.42811" rpy="0 0 0"/>
        <parent link="RightLowerLeg"/>
        <child link="RightFoot_f1"/>
        <dynamics damping="0.1" friction="0.0"/>
        <limit effort="30" velocity="1.0" lower="-0.610865" upper="0.785398" />
        <axis xyz="1 0 0" />
    </joint>
	<joint name="jRightAnkle_roty" type="revolute">
        <origin xyz="0 0 0" rpy="0 0 0"/>
        <parent link="RightFoot_f1"/>
        <child link="RightFoot_f2"/>
        <dynamics damping="0.1" friction="0.0"/>
        <limit effort="30" velocity="1.0" lower="-0.523599" upper="0.872665" />
        <axis xyz="0 1 0" />
    </joint>
    <joint name="jRightAnkle_rotz" type="revolute">
        <origin xyz="0 0 0" rpy="0 0 0"/>
        <parent link="RightFoot_f2"/>
        <child link="RightFoot"/>
        <dynamics damping="0.1" friction="0.0"/>
        <limit effort="30" velocity="1.0" lower="-0.436332" upper="0.872665" />
        <axis xyz="0 0 1" />
    </joint>
	<joint name="jRightBallFoot_roty" type="revolute">
        <origin xyz="0.13428           0   -0.078689" rpy="0 0 0"/>
        <parent link="RightFoot"/>
        <child link="RightToe"/>
        <dynamics damping="0.1" friction="0.0"/>
        <limit effort="30" velocity="1.0" lower="-0.174533" upper="1.5708" />
        <axis xyz="0 1 0" />
    </joint>
	<!--Chain from (20) to (23)-->
	<joint name="jLeftHip_rotx" type="revolute">
        <origin xyz="3.7e-05    0.079215    0.000367" rpy="0 0 0"/>
        <parent link="Pelvis"/>
        <child link="LeftUpperLeg_f1"/>
        <dynamics damping="0.1" friction="0.0"/>
        <limit effort="30" velocity="1.0" lower="-0.523599" upper="0.785398" />
        <axis xyz="1 0 0" />
    </joint>
	<joint name="jLeftHip_roty" type="revolute">
        <origin xyz="0 0 0" rpy="0 0 0"/>
        <parent link="LeftUpperLeg_f1"/>
        <child link="LeftUpperLeg_f2"/>
        <dynamics damping="0.1" friction="0.0"/>
        <limit effort="30" velocity="1.0" lower="-0.261799" upper="2.0944" />
        <axis xyz="0 1 0" />
    </joint>
    <joint name="jLeftHip_rotz" type="revolute">
        <origin xyz="0 0 0" rpy="0 0 0"/>
        <parent link="LeftUpperLeg_f2"/>
        <child link="LeftUpperLeg"/>
        <dynamics damping="0.1" friction="0.0"/>
        <limit effort="30" velocity="1.0" lower="-0.785398" upper="0.785398" />
        <axis xyz="0 0 1" />
    </joint>
	<joint name="jLeftKnee_roty" type="revolute">
        <origin xyz="-2e-06           0    -0.40926" rpy="0 0 0"/>
        <parent link="LeftUpperLeg"/>
        <child link="LeftLowerLeg_f1"/>
        <dynamics damping="0.1" friction="0.0"/>
        <limit effort="30" velocity="1.0" lower="0" upper="2.35619" />
        <axis xyz="0 1 0" />
    </joint>
    <joint name="jLeftKnee_rotz" type="revolute">
        <origin xyz="0 0 0" rpy="0 0 0"/>
        <parent link="LeftLowerLeg_f1"/>
        <child link="LeftLowerLeg"/>
        <dynamics damping="0.1" friction="0.0"/>
        <limit effort="30" velocity="1.0" lower="-0.523599" upper="0.698132" />
        <axis xyz="0 0 1" />
    </joint>
	<joint name="jLeftAnkle_rotx" type="revolute">
        <origin xyz="-0.000373           0    -0.42811" rpy="0 0 0"/>
        <parent link="LeftLowerLeg"/>
        <child link="LeftFoot_f1"/>
        <dynamics damping="0.1" friction="0.0"/>
        <limit effort="30" velocity="1.0" lower="-0.610865" upper="0.785398" />
        <axis xyz="1 0 0" />
    </joint>
	<joint name="jLeftAnkle_roty" type="revolute">
        <origin xyz="0 0 0" rpy="0 0 0"/>
        <parent link="LeftFoot_f1"/>
        <child link="LeftFoot_f2"/>
        <dynamics damping="0.1" friction="0.0"/>
        <limit effort="30" velocity="1.0" lower="-0.523599" upper="0.872665" />
        <axis xyz="0 1 0" />
    </joint>
    <joint name="jLeftAnkle_rotz" type="revolute">
        <origin xyz="0 0 0" rpy="0 0 0"/>
        <parent link="LeftFoot_f2"/>
        <child link="LeftFoot"/>
        <dynamics damping="0.1" friction="0.0"/>
        <limit effort="30" velocity="1.0" lower="-0.872665" upper="0.436332" />
        <axis xyz="0 0 1" />
    </joint>
	<joint name="jLeftBallFoot_roty" type="revolute">
        <origin xyz="0.13428           0   -0.078689" rpy="0 0 0"/>
        <parent link="LeftFoot"/>
        <child link="LeftToe"/>
        <dynamics damping="0.1" friction="0.0"/>
        <limit effort="30" velocity="1.0" lower="-0.174533" upper="1.5708" />
        <axis xyz="0 1 0" />
    </joint>

	<!-- Sensor  1-->
<sensor name="Pelvis_gyro" type="gyroscope">
<parent link="Pelvis"/>
<origin xyz="-0.055851 -0.00024794    0.093777" rpy="-0.025339      1.0817      3.1146"/>
</sensor>
<sensor name="Pelvis_accelerometer" type="accelerometer">
<parent link="Pelvis"/>
<origin xyz="-0.055851 -0.00024794    0.093777" rpy="-0.025339      1.0817      3.1146"/>
</sensor>
<!-- Sensor  2-->
<sensor name="T8_gyro" type="gyroscope">
<parent link="T8"/>
<origin xyz="0.12907 -1.1351e-05    0.071044" rpy="-0.0094209      1.0965     0.23977"/>
</sensor>
<sensor name="T8_accelerometer" type="accelerometer">
<parent link="T8"/>
<origin xyz="0.12907 -1.1351e-05    0.071044" rpy="-0.0094209      1.0965     0.23977"/>
</sensor>
<!-- Sensor  3-->
<sensor name="Head_gyro" type="gyroscope">
<parent link="Head"/>
<origin xyz="-0.064568 -4.2102e-05    0.071101" rpy="2.4696    -0.15126     -1.4222"/>
</sensor>
<sensor name="Head_accelerometer" type="accelerometer">
<parent link="Head"/>
<origin xyz="-0.064568 -4.2102e-05    0.071101" rpy="2.4696    -0.15126     -1.4222"/>
</sensor>
<!-- Sensor  4-->
<sensor name="RightShoulder_gyro" type="gyroscope">
<parent link="RightShoulder"/>
<origin xyz="-0.018321   -0.045717    -0.05485" rpy="1.0841    -0.33417     -1.0102"/>
</sensor>
<sensor name="RightShoulder_accelerometer" type="accelerometer">
<parent link="RightShoulder"/>
<origin xyz="-0.018321   -0.045717    -0.05485" rpy="1.0841    -0.33417     -1.0102"/>
</sensor>
<!-- Sensor  5-->
<sensor name="RightUpperArm_gyro" type="gyroscope">
<parent link="RightUpperArm"/>
<origin xyz="-0.01881   -0.093846    0.018777" rpy="-0.19827    0.031521     -1.5457"/>
</sensor>
<sensor name="RightUpperArm_accelerometer" type="accelerometer">
<parent link="RightUpperArm"/>
<origin xyz="-0.01881   -0.093846    0.018777" rpy="-0.19827    0.031521     -1.5457"/>
</sensor>
<!-- Sensor  6-->
<sensor name="RightForeArm_gyro" type="gyroscope">
<parent link="RightForeArm"/>
<origin xyz="0.0017215    -0.18852    0.018839" rpy="-0.11776  -0.0087126     -1.3711"/>
</sensor>
<sensor name="RightForeArm_accelerometer" type="accelerometer">
<parent link="RightForeArm"/>
<origin xyz="0.0017215    -0.18852    0.018839" rpy="-0.11776  -0.0087126     -1.3711"/>
</sensor>
<!-- Sensor  7-->
<sensor name="RightHand_gyro" type="gyroscope">
<parent link="RightHand"/>
<origin xyz="1.5604e-06   -0.051917    0.018922" rpy="-0.25252    -0.33171      1.4578"/>
</sensor>
<sensor name="RightHand_accelerometer" type="accelerometer">
<parent link="RightHand"/>
<origin xyz="1.5604e-06   -0.051917    0.018922" rpy="-0.25252    -0.33171      1.4578"/>
</sensor>
<!-- Sensor  8-->
<sensor name="LeftShoulder_gyro" type="gyroscope">
<parent link="LeftShoulder"/>
<origin xyz="-0.01832    0.045769   -0.054849" rpy="-1.1924    -0.29051      1.4506"/>
</sensor>
<sensor name="LeftShoulder_accelerometer" type="accelerometer">
<parent link="LeftShoulder"/>
<origin xyz="-0.01832    0.045769   -0.054849" rpy="-1.1924    -0.29051      1.4506"/>
</sensor>
<!-- Sensor  9-->
<sensor name="LeftUpperArm_gyro" type="gyroscope">
<parent link="LeftUpperArm"/>
<origin xyz="-0.018815    0.093851    0.018745" rpy="0.13574    0.014451      1.6021"/>
</sensor>
<sensor name="LeftUpperArm_accelerometer" type="accelerometer">
<parent link="LeftUpperArm"/>
<origin xyz="-0.018815    0.093851    0.018745" rpy="0.13574    0.014451      1.6021"/>
</sensor>
<!-- Sensor  10-->
<sensor name="LeftForeArm_gyro" type="gyroscope">
<parent link="LeftForeArm"/>
<origin xyz="0.0017185     0.18851    0.018832" rpy="-0.15931   -0.068329      1.3188"/>
</sensor>
<sensor name="LeftForeArm_accelerometer" type="accelerometer">
<parent link="LeftForeArm"/>
<origin xyz="0.0017185     0.18851    0.018832" rpy="-0.15931   -0.068329      1.3188"/>
</sensor>
<!-- Sensor  11-->
<sensor name="LeftHand_gyro" type="gyroscope">
<parent link="LeftHand"/>
<origin xyz="-9.0101e-06    0.051898    0.018908" rpy="0.04954    -0.12803     -1.8088"/>
</sensor>
<sensor name="LeftHand_accelerometer" type="accelerometer">
<parent link="LeftHand"/>
<origin xyz="-9.0101e-06    0.051898    0.018908" rpy="0.04954    -0.12803     -1.8088"/>
</sensor>
<!-- Sensor  12-->
<sensor name="RightUpperLeg_gyro" type="gyroscope">
<parent link="RightUpperLeg"/>
<origin xyz="0.011352   -0.041863    -0.24639" rpy="2.918      1.3456      1.3207"/>
</sensor>
<sensor name="RightUpperLeg_accelerometer" type="accelerometer">
<parent link="RightUpperLeg"/>
<origin xyz="0.011352   -0.041863    -0.24639" rpy="2.918      1.3456      1.3207"/>
</sensor>
<!-- Sensor  13-->
<sensor name="RightLowerLeg_gyro" type="gyroscope">
<parent link="RightLowerLeg"/>
<origin xyz="0.032321   0.0075803    -0.13925" rpy="1.3088      1.5181      1.5259"/>
</sensor>
<sensor name="RightLowerLeg_accelerometer" type="accelerometer">
<parent link="RightLowerLeg"/>
<origin xyz="0.032321   0.0075803    -0.13925" rpy="1.3088      1.5181      1.5259"/>
</sensor>
<!-- Sensor  14-->
<sensor name="RightFoot_gyro" type="gyroscope">
<parent link="RightFoot"/>
<origin xyz="0.076635    0.001269   -0.010812" rpy="0.39462     0.99357     0.12059"/>
</sensor>
<sensor name="RightFoot_accelerometer" type="accelerometer">
<parent link="RightFoot"/>
<origin xyz="0.076635    0.001269   -0.010812" rpy="0.39462     0.99357     0.12059"/>
</sensor>
<!-- Sensor  15-->
<sensor name="LeftUpperLeg_gyro" type="gyroscope">
<parent link="LeftUpperLeg"/>
<origin xyz="0.011359    0.042682    -0.24608" rpy="2.8953      1.3358     -1.9171"/>
</sensor>
<sensor name="LeftUpperLeg_accelerometer" type="accelerometer">
<parent link="LeftUpperLeg"/>
<origin xyz="0.011359    0.042682    -0.24608" rpy="2.8953      1.3358     -1.9171"/>
</sensor>
<!-- Sensor  16-->
<sensor name="LeftLowerLeg_gyro" type="gyroscope">
<parent link="LeftLowerLeg"/>
<origin xyz="0.032311  -0.0076368    -0.13924" rpy="1.2847      1.4021     0.81762"/>
</sensor>
<sensor name="LeftLowerLeg_accelerometer" type="accelerometer">
<parent link="LeftLowerLeg"/>
<origin xyz="0.032311  -0.0076368    -0.13924" rpy="1.2847      1.4021     0.81762"/>
</sensor>
<!-- Sensor  17-->
<sensor name="LeftFoot_gyro" type="gyroscope">
<parent link="LeftFoot"/>
<origin xyz="0.076647  -0.0012887   -0.010792" rpy="-0.57153      1.0569      -0.187"/>
</sensor>
<sensor name="LeftFoot_accelerometer" type="accelerometer">
<parent link="LeftFoot"/>
<origin xyz="0.076647  -0.0012887   -0.010792" rpy="-0.57153      1.0569      -0.187"/>
</sensor>


</robot>
